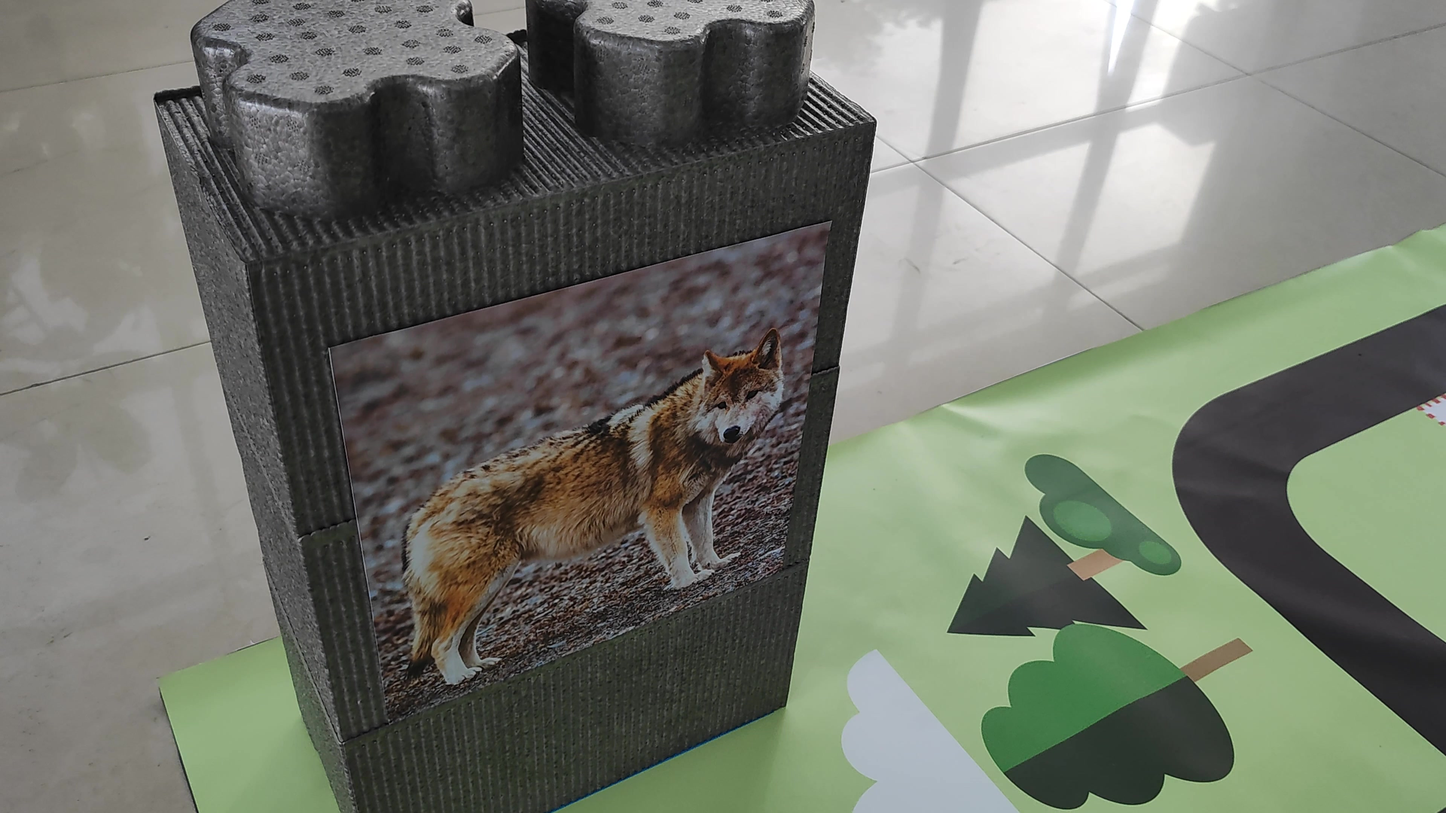wolf: (383, 314, 798, 695)
